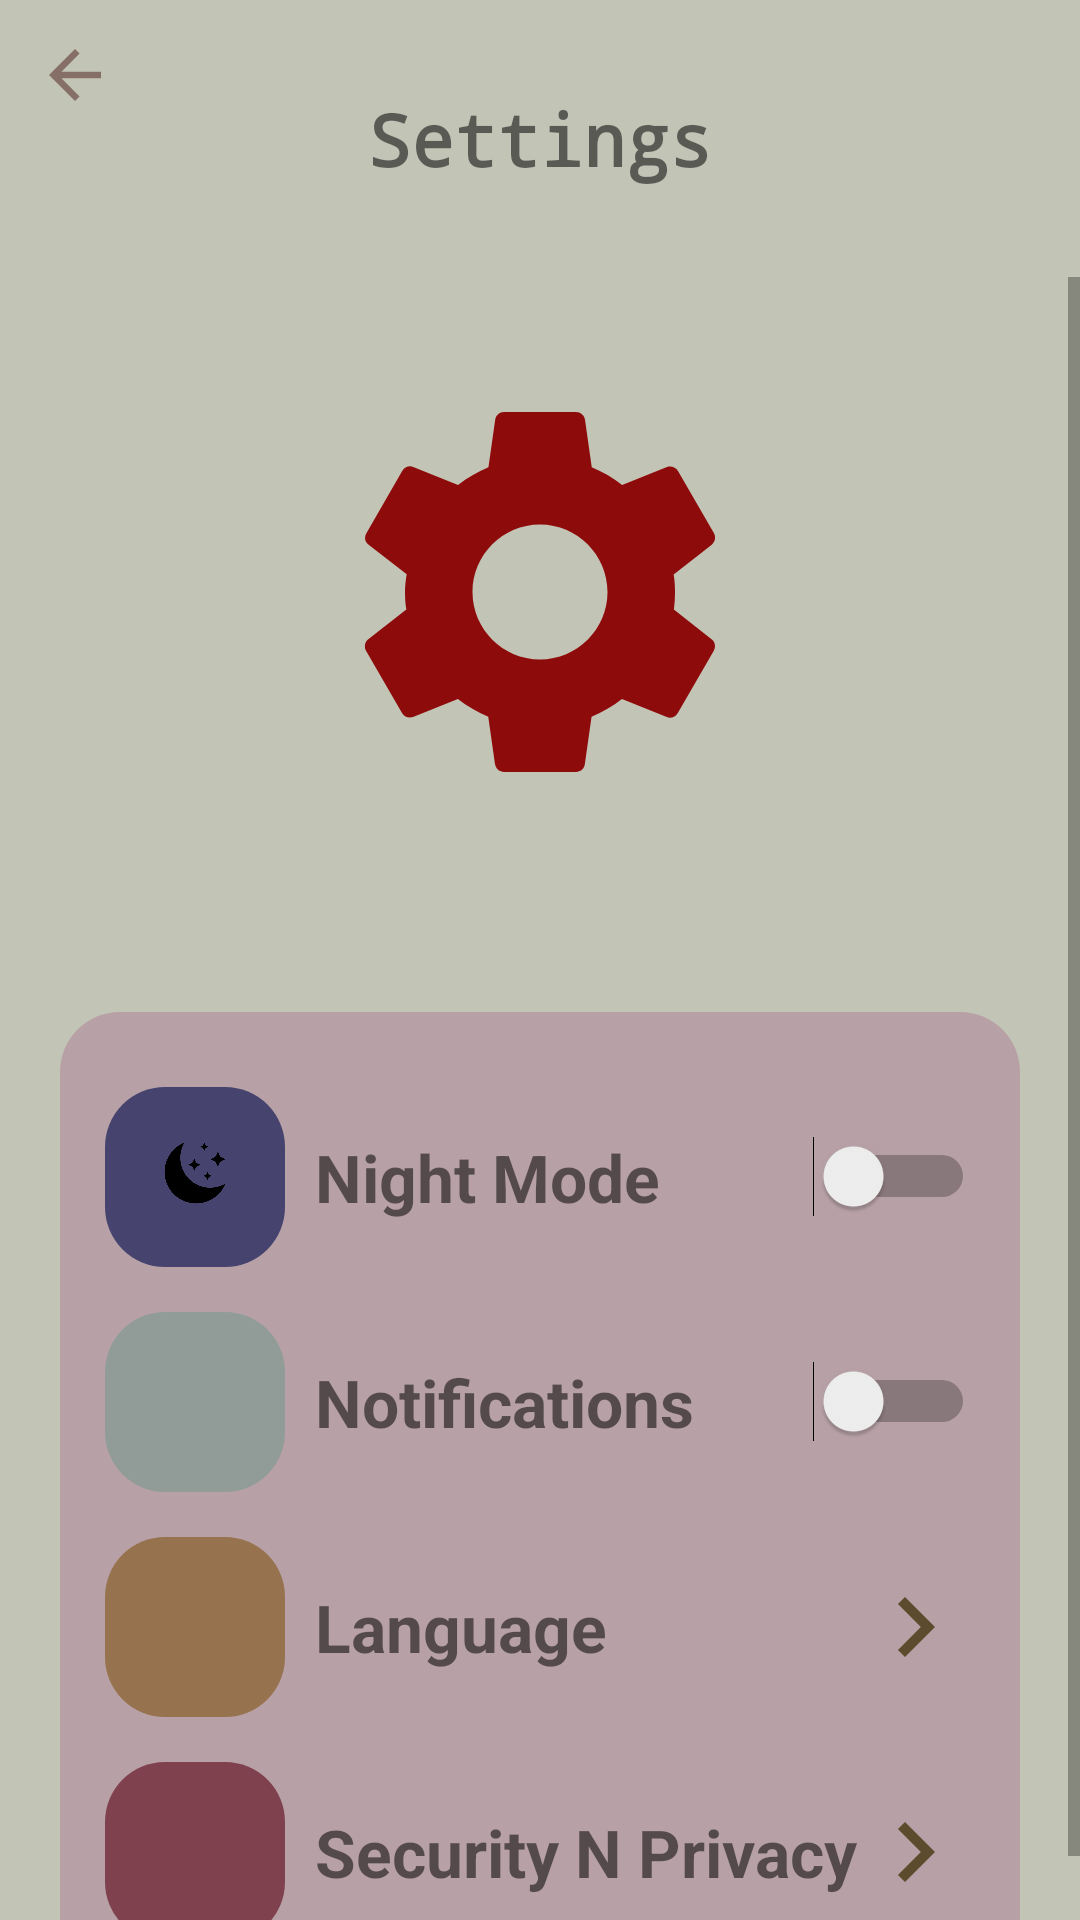

Icons on this 1080 × 1920 Android screen, each with its box as (x1, y1, x2, y2):
arrow right: (898, 1597, 935, 1657), (898, 1822, 935, 1882)
back: (49, 49, 101, 101)
